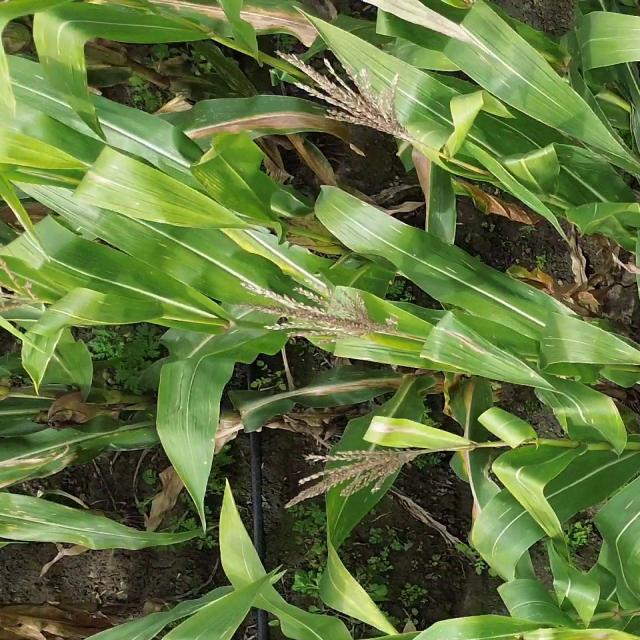gray-leaf-spot: (6, 494, 146, 550), (411, 79, 494, 131), (29, 426, 147, 462), (538, 326, 633, 363), (28, 42, 89, 94), (131, 226, 189, 271), (478, 499, 520, 555), (330, 493, 366, 545)
northern-leaf-blight: (151, 0, 323, 39), (374, 220, 480, 282), (240, 374, 397, 414), (173, 105, 318, 144), (458, 384, 494, 482), (436, 327, 504, 369), (371, 417, 453, 450)
